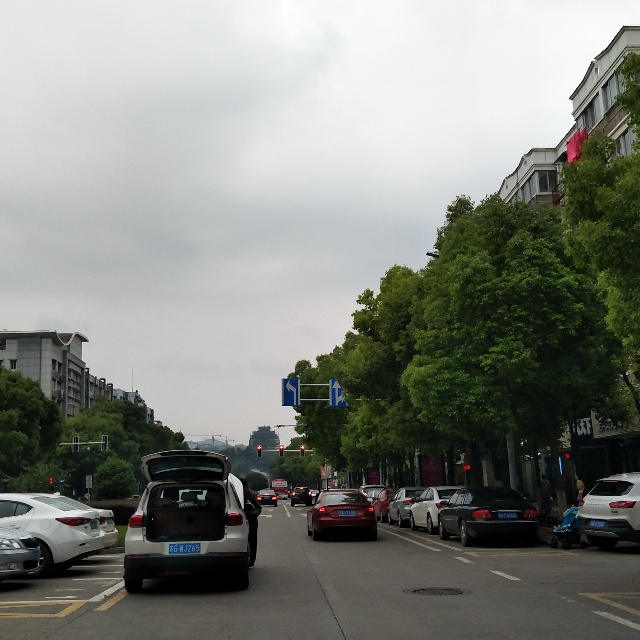left: (282, 378, 300, 406)
